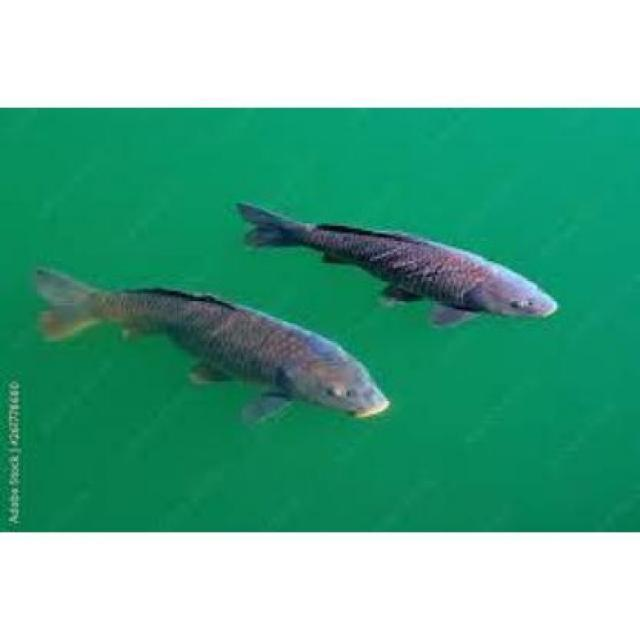ikan-mas: (39, 266, 392, 426), (239, 197, 561, 326)
